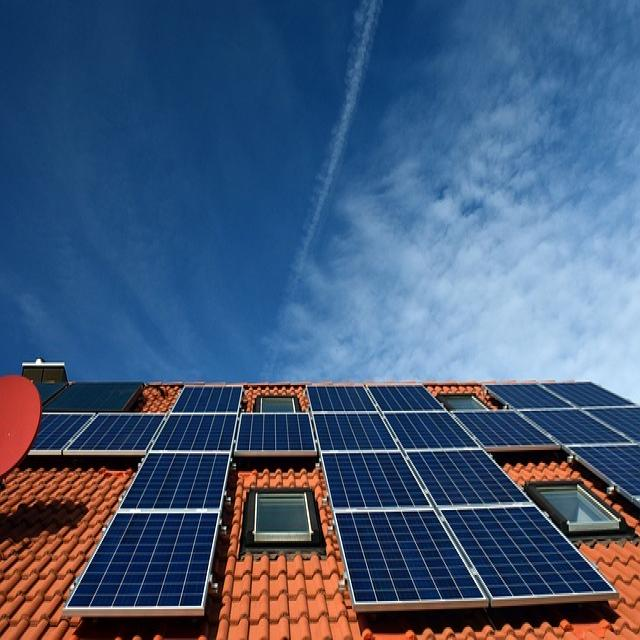clean-solar-panel: (30, 384, 640, 637)
